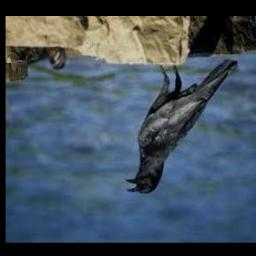Crow: (126, 58, 238, 194)
